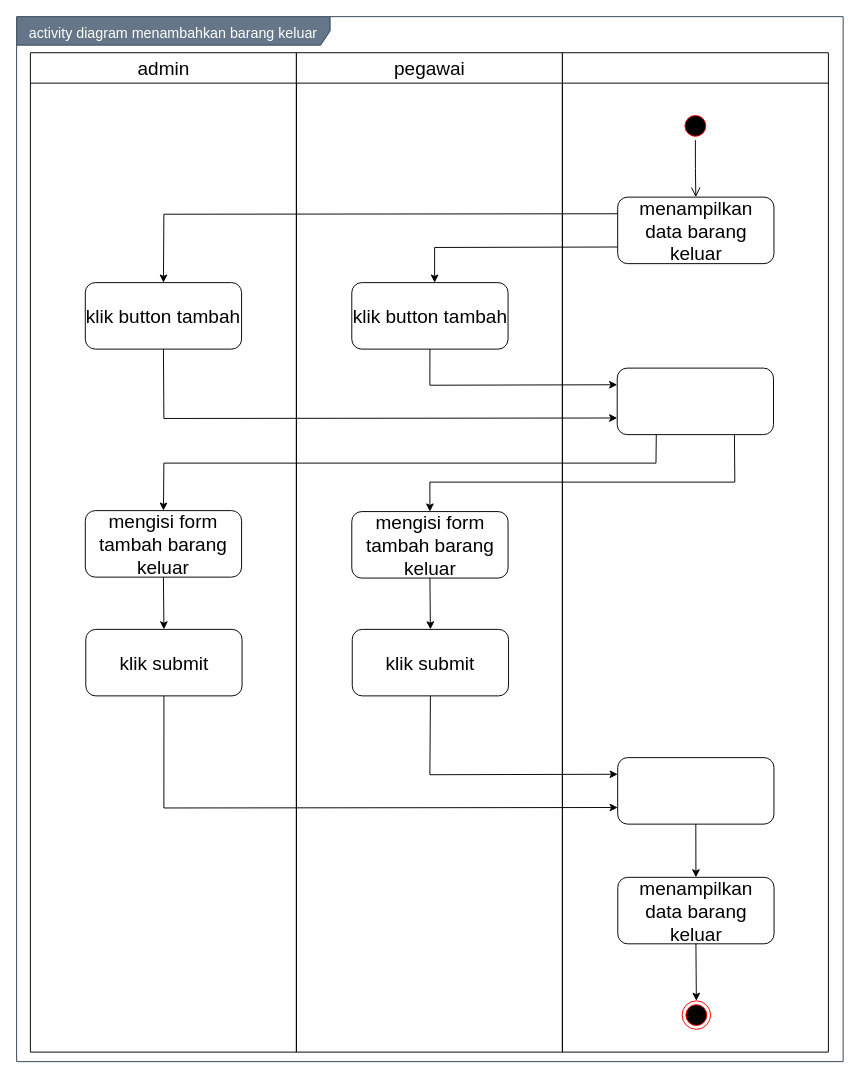
The diagram is 860 pixels wide and 1078 high, and some of its shapes have lost their labels. The shapes that lost their labels are listed below. From the top down, each one's box as (x1, y1, x2, y2) in pixels, then its label:
(616, 367, 773, 435): menampilkan form tambah barang keluar
(561, 52, 828, 1052): sistem
(617, 757, 774, 824): menyimpan ke database
